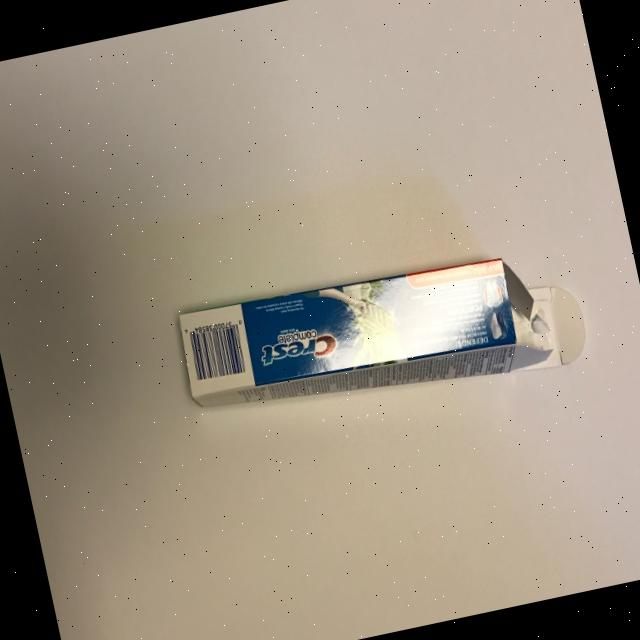paper: (174, 230, 592, 442)
